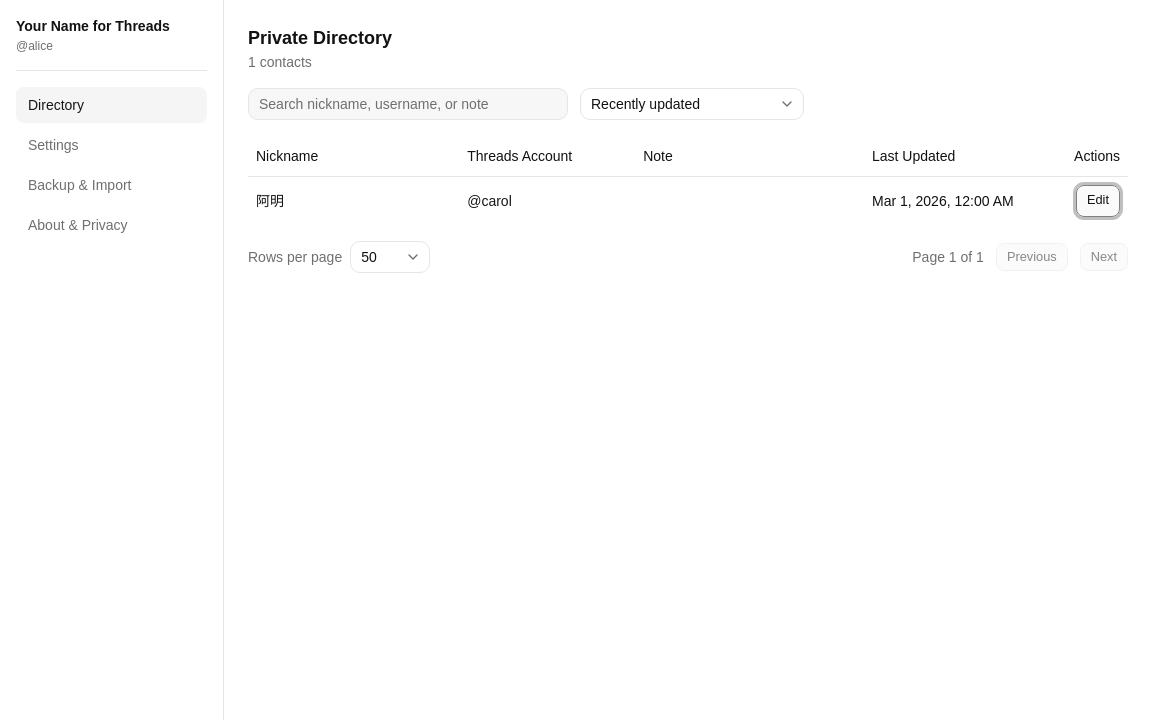
Test case: focus goes in, stays in, and comes back › the contact editor drawer, opened from a row's button and closed with Escape
Click the button "Edit".
click(1098, 200)  # box left=1076, top=184, right=1120, bottom=216
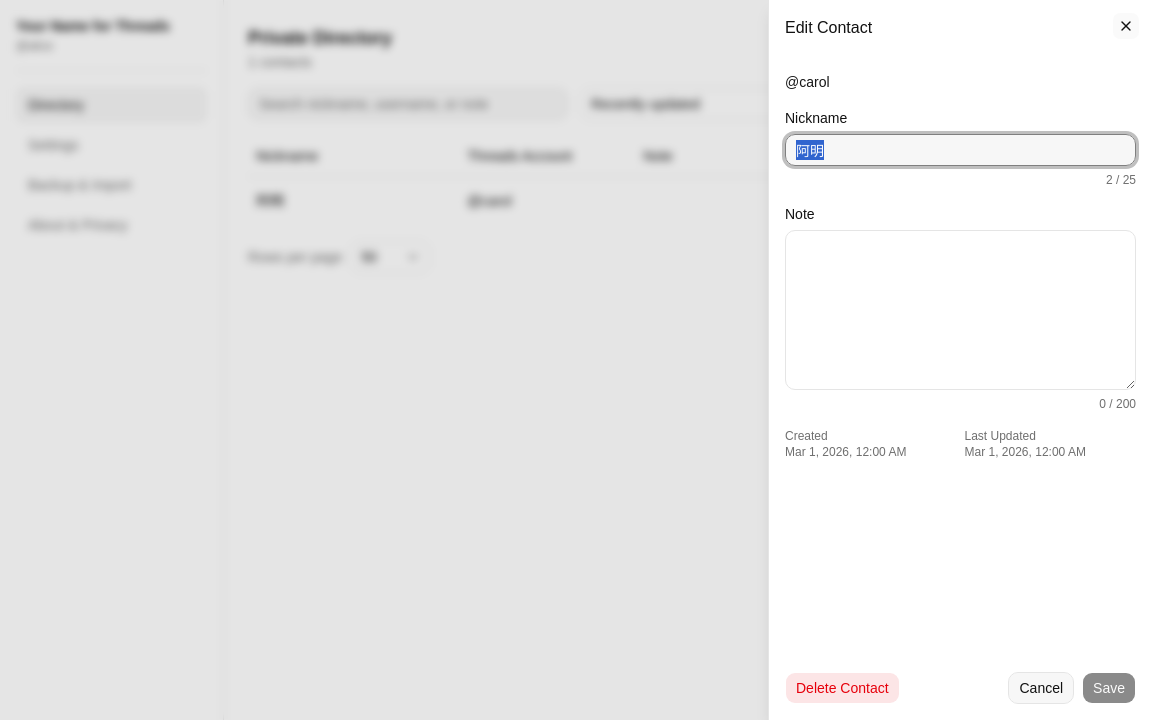
Press Escape in the dialog, box left=768, top=0, right=1151, bottom=719
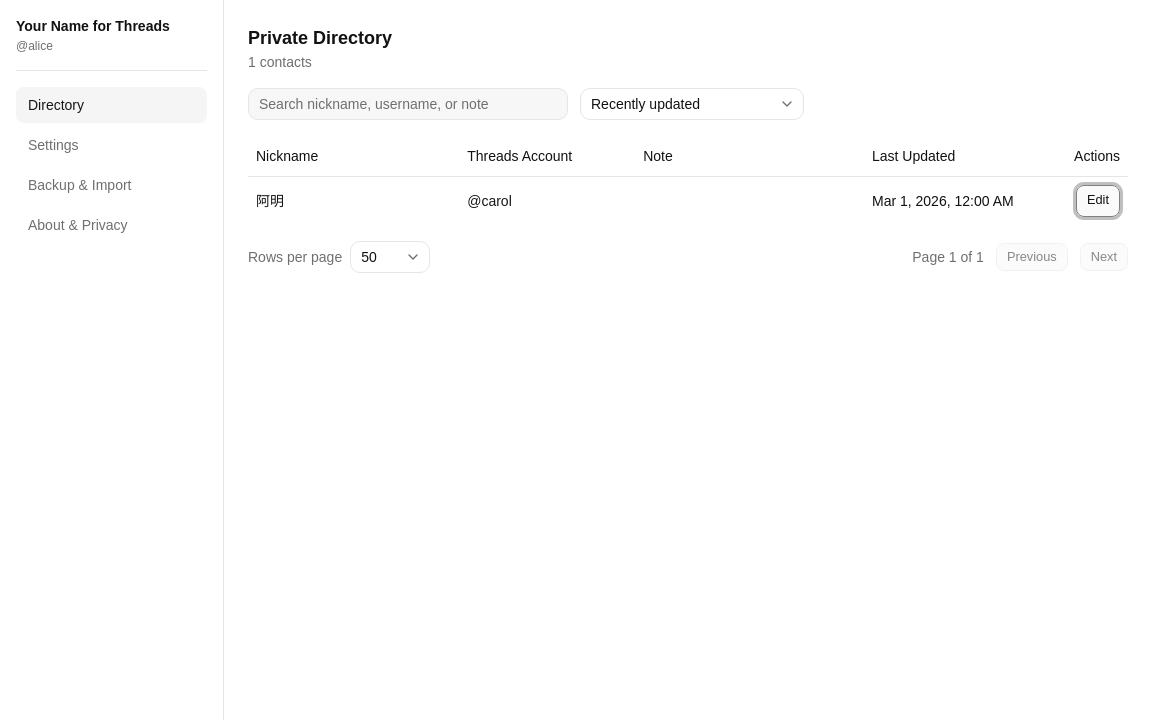
Expected: the dialog is gone
